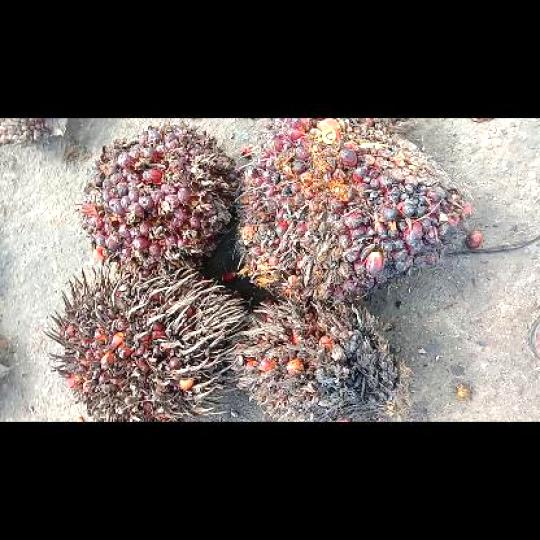masak: (235, 117, 465, 300), (79, 123, 240, 276)
terlalu masak: (45, 262, 246, 421), (228, 294, 408, 420)
